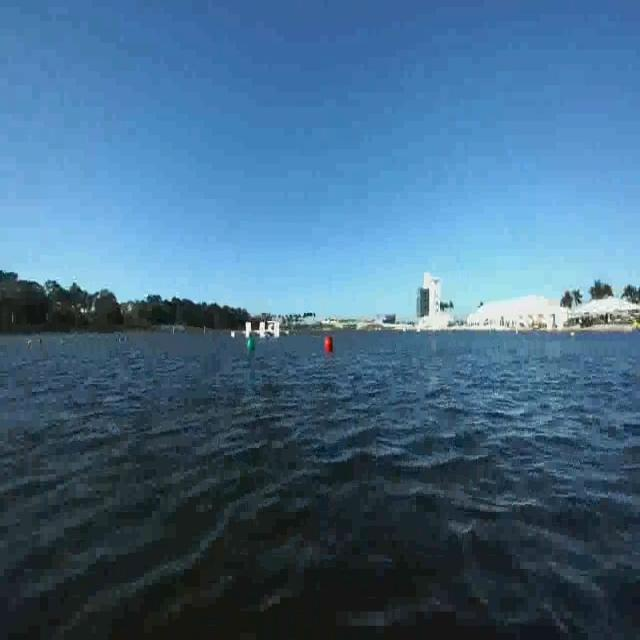green-buoy: (248, 338, 255, 353)
red-column-buoy: (327, 337, 336, 356)
